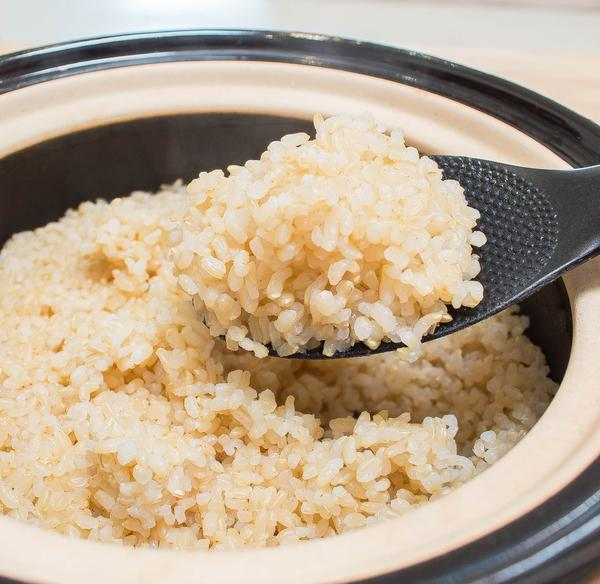plain rice: (1, 153, 480, 516)
